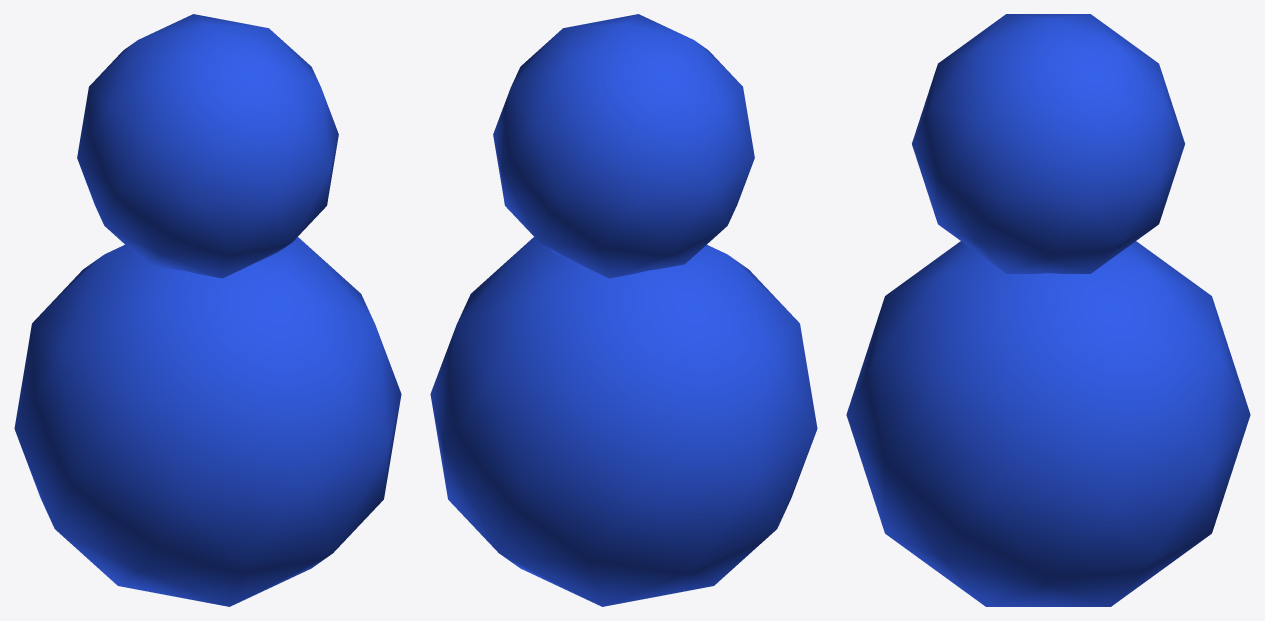
Rendered from goodguy1.glb.
The picture shows the model from 3 angles, left to right: view 1: azimuth 30°, elevation 25°; view 2: azimuth 150°, elevation 25°; view 3: azimuth 270°, elevation 25°; orthographic projection. The views are drawn at different scales.
Parts seen in each view (by area): view 1: Icosphere, Icosphere.001; view 2: Icosphere, Icosphere.001; view 3: Icosphere, Icosphere.001.
Part boxes in pixels (left/top/right/bottom): Icosphere: left=14, top=237, right=401, bottom=606; Icosphere.001: left=77, top=14, right=338, bottom=278; Icosphere: left=430, top=237, right=817, bottom=606; Icosphere.001: left=493, top=14, right=754, bottom=278; Icosphere: left=846, top=241, right=1250, bottom=606; Icosphere.001: left=912, top=14, right=1184, bottom=273.
Bounding box in the file's own units: 1.9 × 3.16 × 2.
